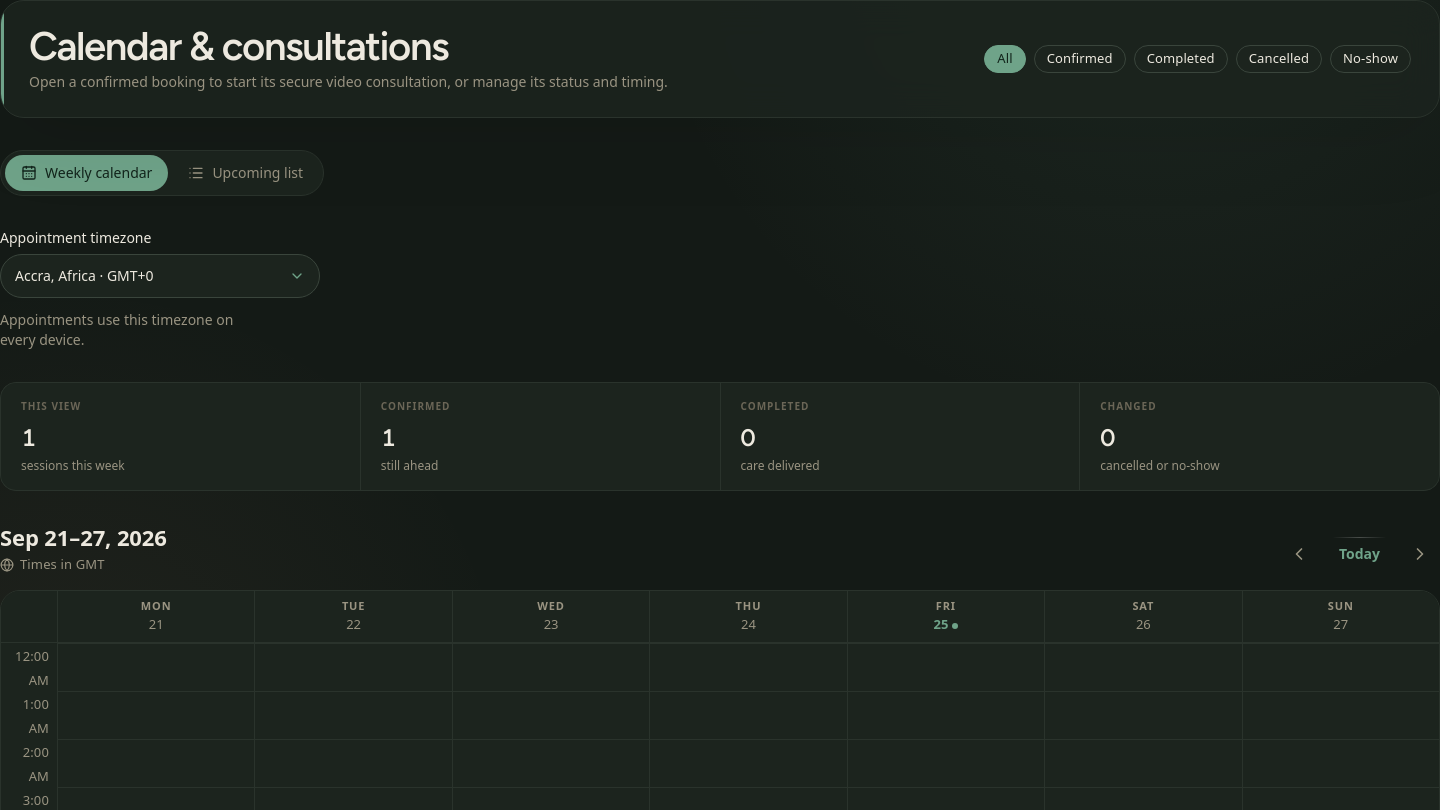
Test: CalendarPage › opens existing booking controls from the list and removes cancelled consultations
Click the button "Upcoming list". click: [246, 173]
box: [172,155,319,191]
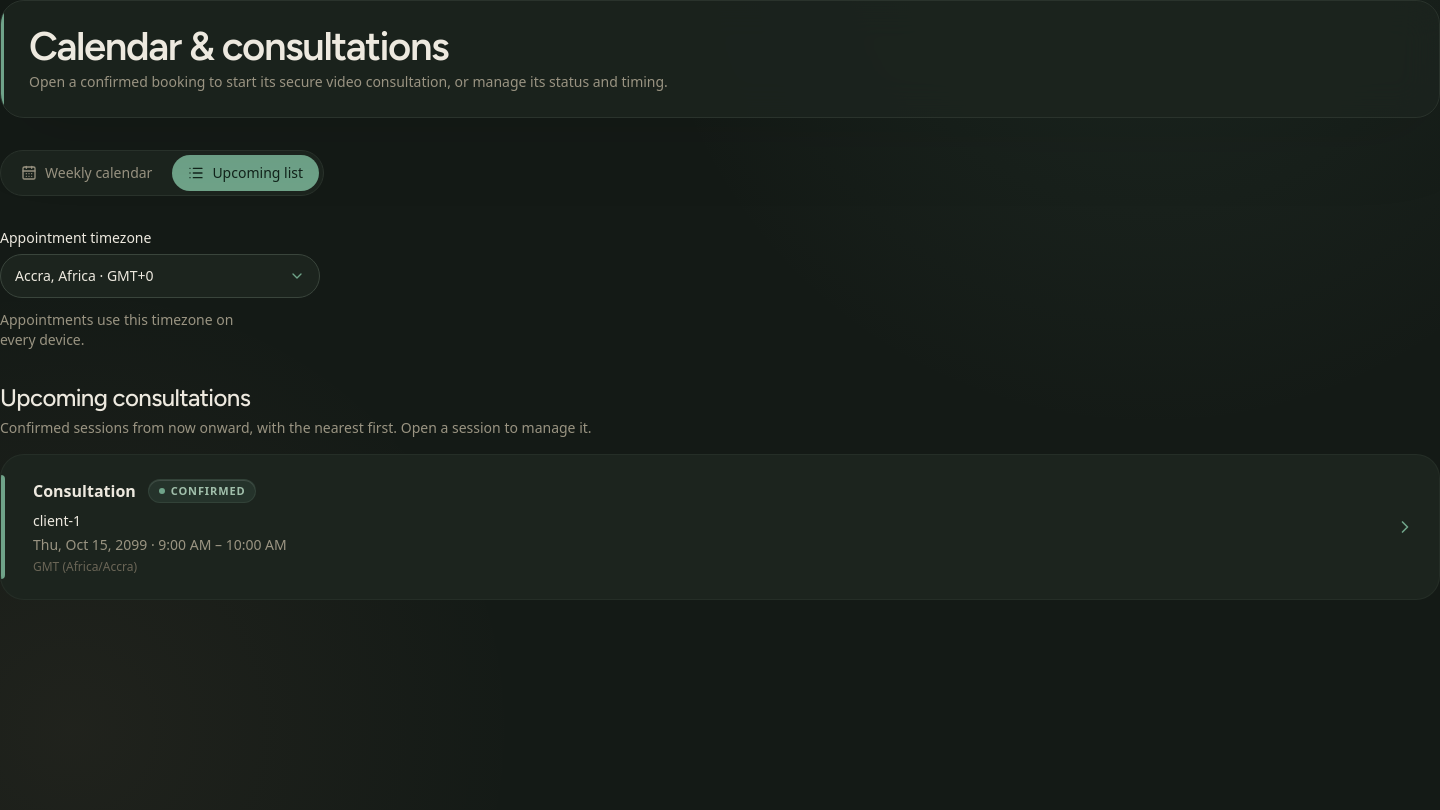
Click the button "client-1". click: [720, 527]
box: [0,454,1439,600]
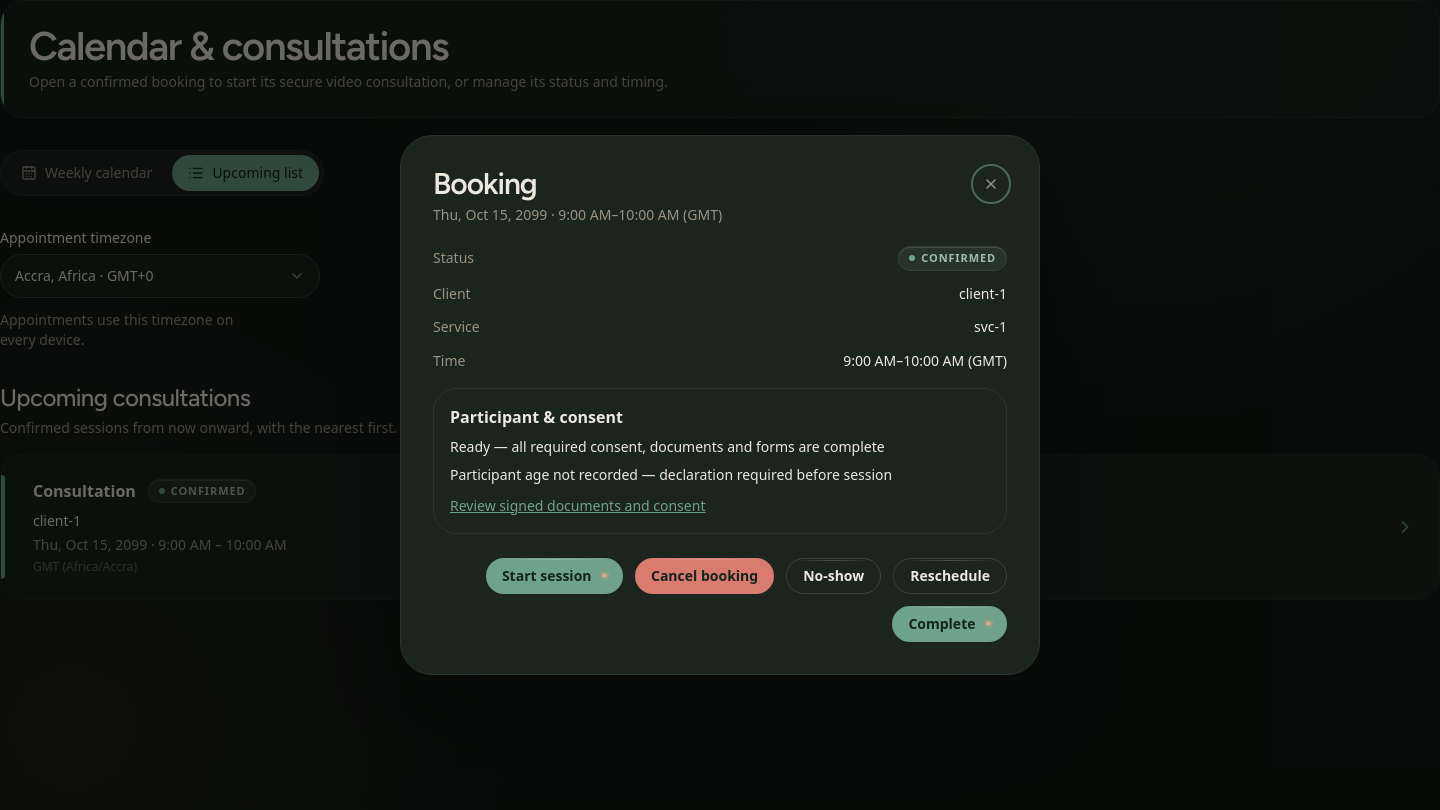
Click the button "Cancel booking". click: [705, 576]
box: [635,558,774,594]
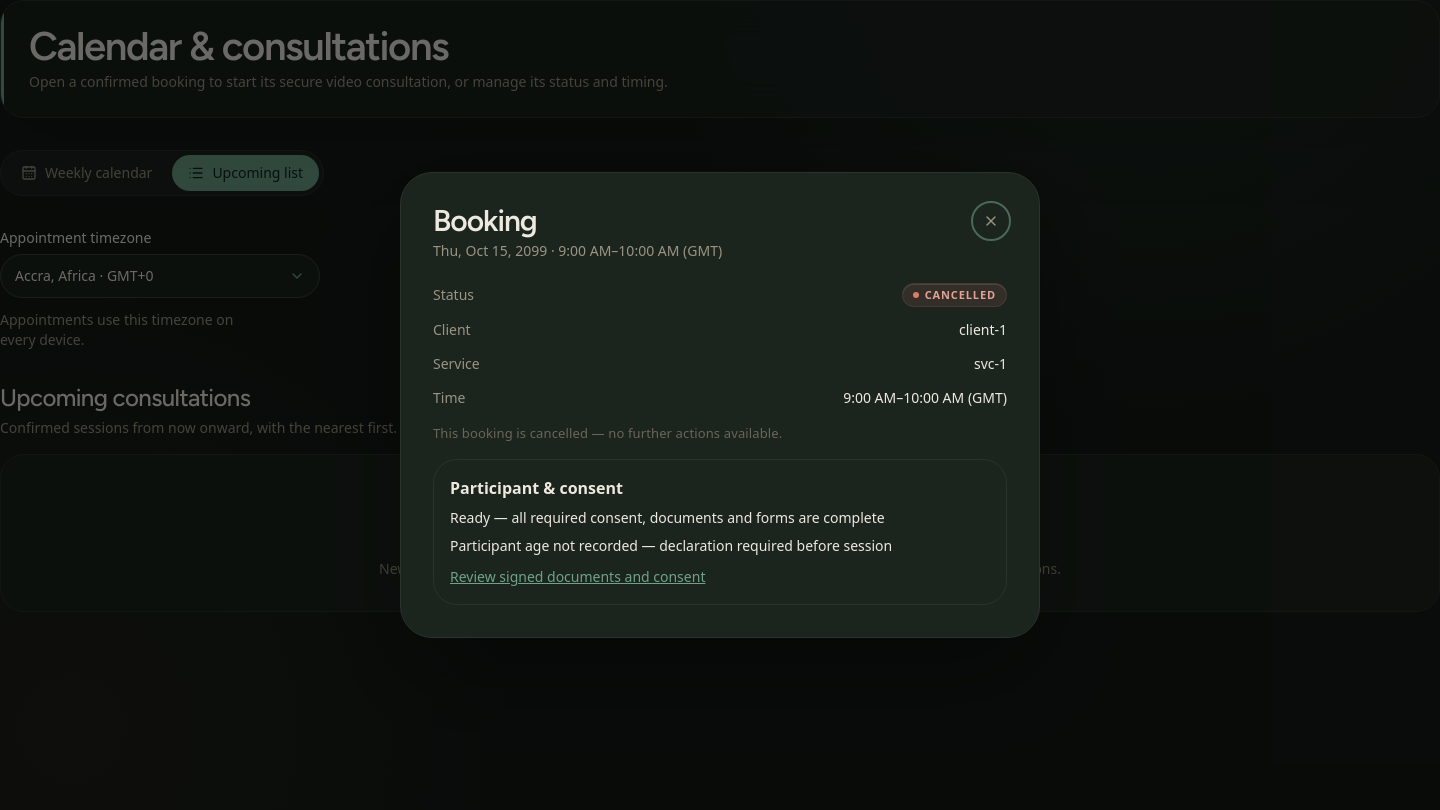
Expected: the heading "No upcoming consultations" is shown, [610,528,830,550]
